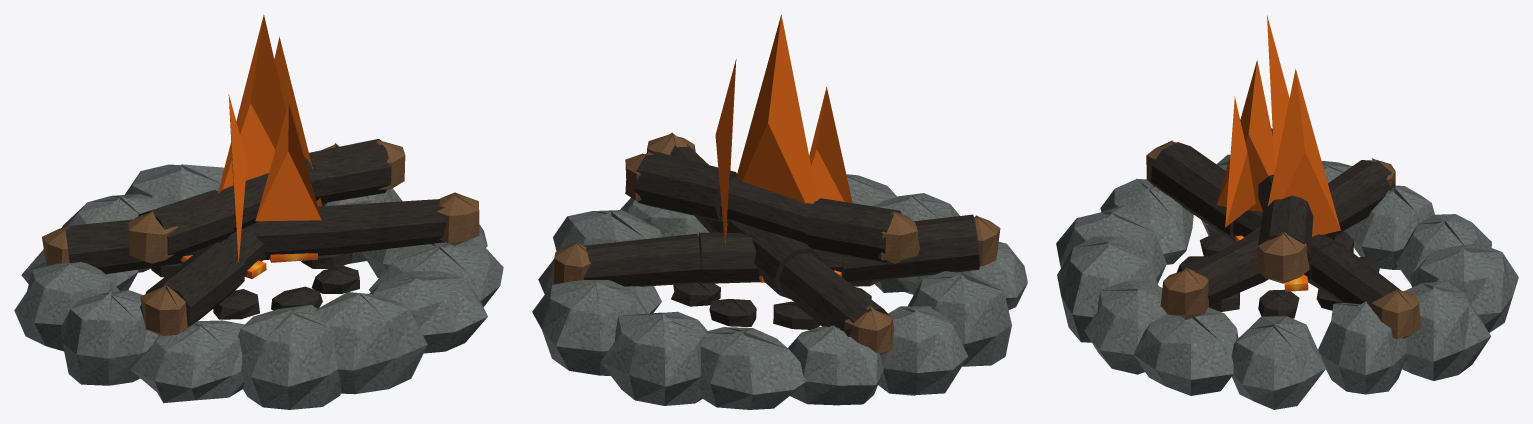
File: cs-008_campfire_small_flame.obj
3 renders of one model, left to right at view 1: azimuth 30°, elevation 25°; view 2: azimuth 150°, elevation 25°; view 3: azimuth 270°, elevation 25°, orthographic. The views are drawn at different scales.
Parts seen in each view (by area): view 1: cs-008_campfire_small_flame; view 2: cs-008_campfire_small_flame; view 3: cs-008_campfire_small_flame.
Boxes of the visible parts, x1,y1,x2,y2 form: cs-008_campfire_small_flame: (14, 14, 503, 409); cs-008_campfire_small_flame: (532, 14, 1027, 409); cs-008_campfire_small_flame: (1056, 15, 1518, 409).
Size of the model in its own units: 1.16 by 0.8291 by 1.09.
4 materials, 4 textured.
